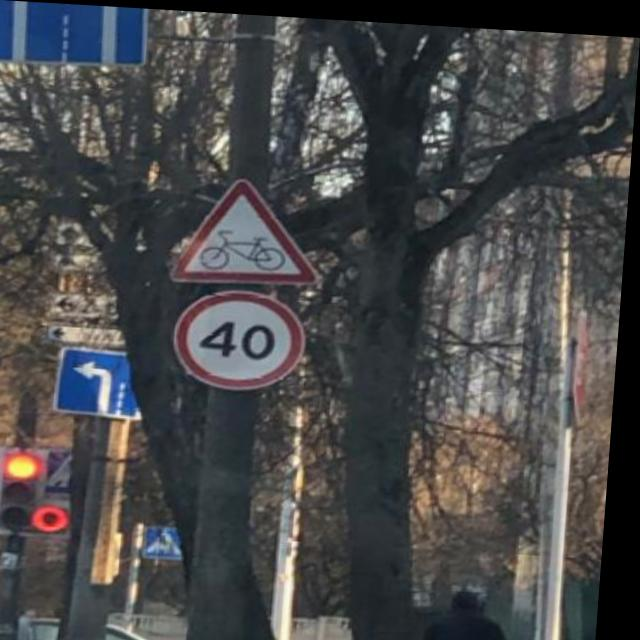limit40: (175, 273, 322, 398)
